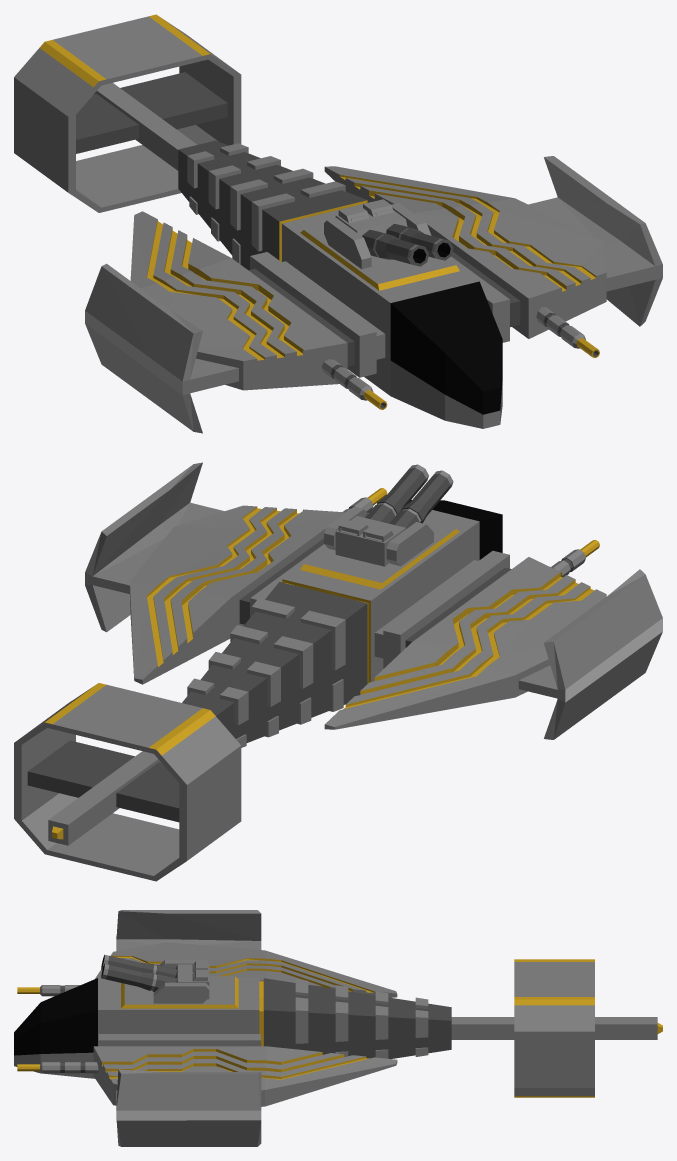
The model's file is Spaceship9_1.fbx.
The picture shows the model from 3 angles, top to bottom: view 1: azimuth 30°, elevation 25°; view 2: azimuth 150°, elevation 25°; view 3: azimuth 270°, elevation 25°; orthographic projection. The views are drawn at different scales.
Parts seen in each view (by area): view 1: Spaceship9_1; view 2: Spaceship9_1; view 3: Spaceship9_1.
Part boxes in pixels (x1,y1,x2,y2): Spaceship9_1: [14, 14, 662, 433]; Spaceship9_1: [14, 462, 662, 881]; Spaceship9_1: [14, 910, 662, 1146].
Bounding box in the file's own units: 1328 × 420 × 2092.
